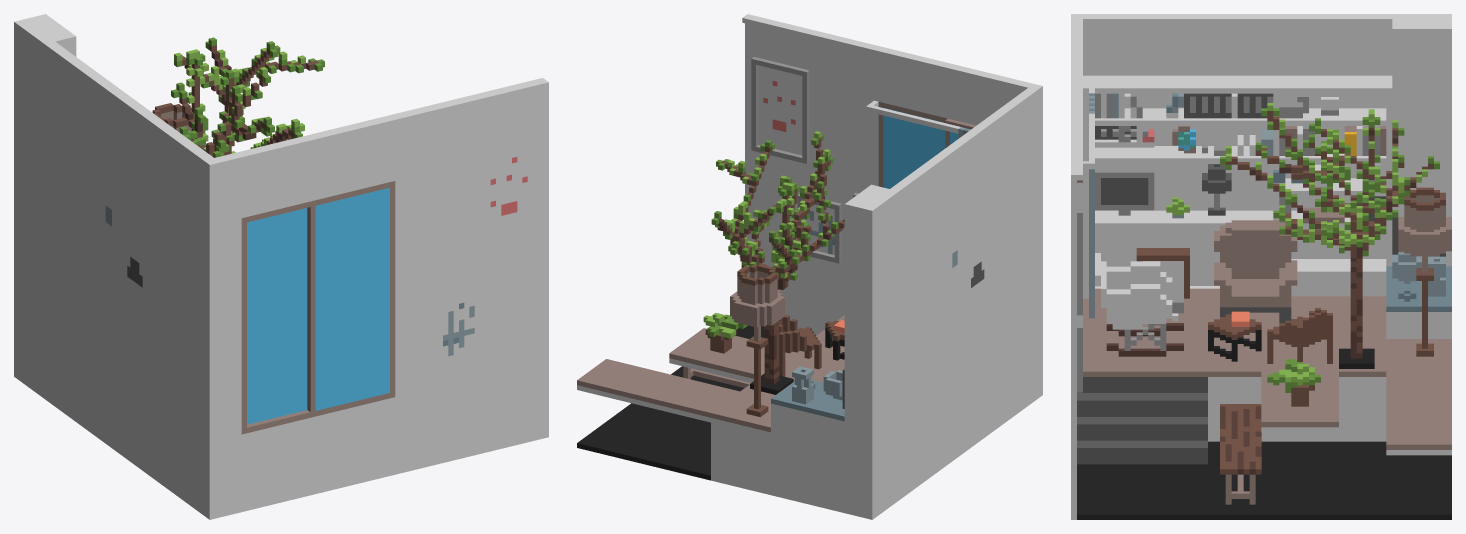
Rendered from Room.obj.
The picture shows the model from 3 angles, left to right: view 1: azimuth 30°, elevation 25°; view 2: azimuth 150°, elevation 25°; view 3: azimuth 270°, elevation 25°; orthographic projection. The views are drawn at different scales.
Size of the model in its own units: 6.4 by 6.4 by 6.4.
